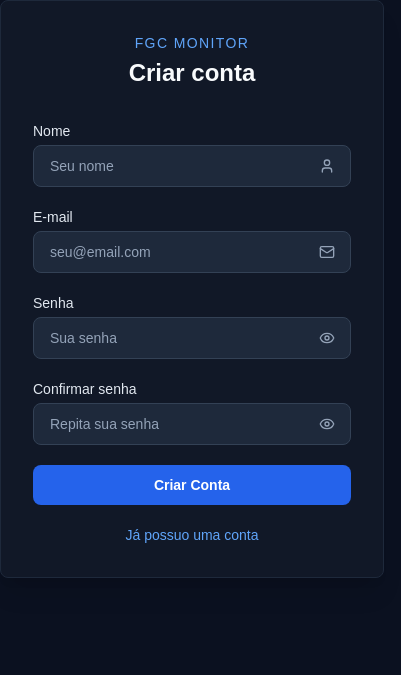
Test: REgister › mostra as validações quando enviado um formulário em branco
The image size is (401, 675).
Click the button "Criar Conta" at (192, 485), box [33, 465, 351, 505]
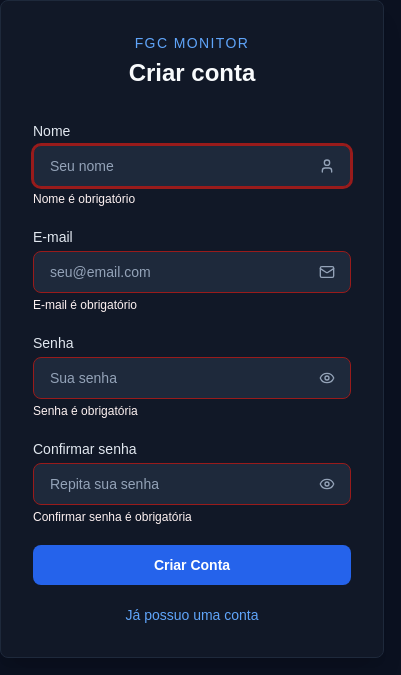
Check: the text "Nome é obrigatório" is shown, box [33, 192, 135, 206]
Check: the text "E-mail é obrigatório" is shown, box [33, 298, 137, 312]
Check: the text "Senha é obrigatória" is shown, box [33, 404, 138, 418]
